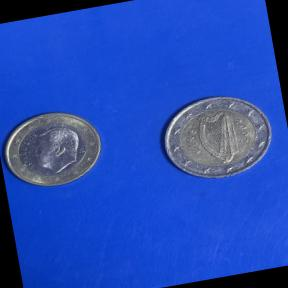1 Euro-B: (0, 98, 112, 198)
2 Euro-B: (150, 80, 285, 192)
